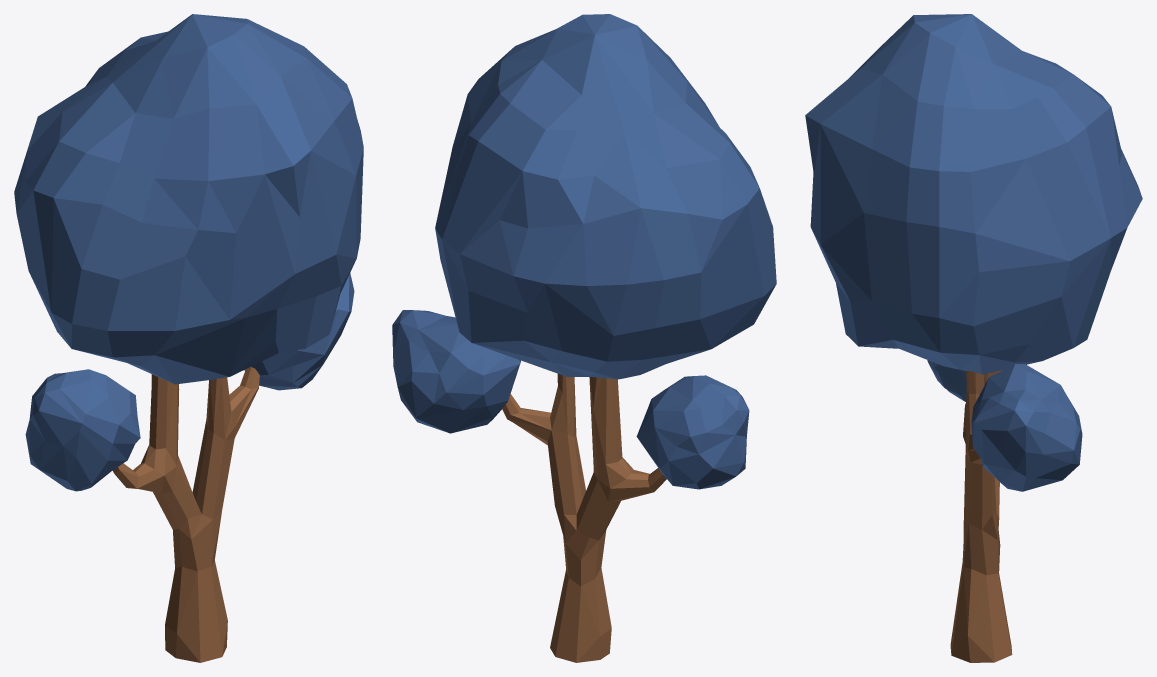
File: tree-winter-complete-3-007.glb
3 views of the same model, side by side, from view 1: azimuth 30°, elevation 25°; view 2: azimuth 150°, elevation 25°; view 3: azimuth 270°, elevation 25° (orthographic). The views are drawn at different scales.
Parts seen in each view (by area): view 1: TREE 3.005_199, TREE 3.004_200; view 2: TREE 3.005_199, TREE 3.004_200; view 3: TREE 3.005_199, TREE 3.004_200.
Boxes of the visible parts, x1,y1,x2,y2 form: TREE 3.005_199: (14,14,363,491); TREE 3.004_200: (112,367,259,662); TREE 3.005_199: (392,14,776,489); TREE 3.004_200: (502,374,666,662); TREE 3.005_199: (805,14,1142,491); TREE 3.004_200: (950,370,1012,662).
Bounding box in the file's own units: 1.04 × 1.86 × 0.8969.
